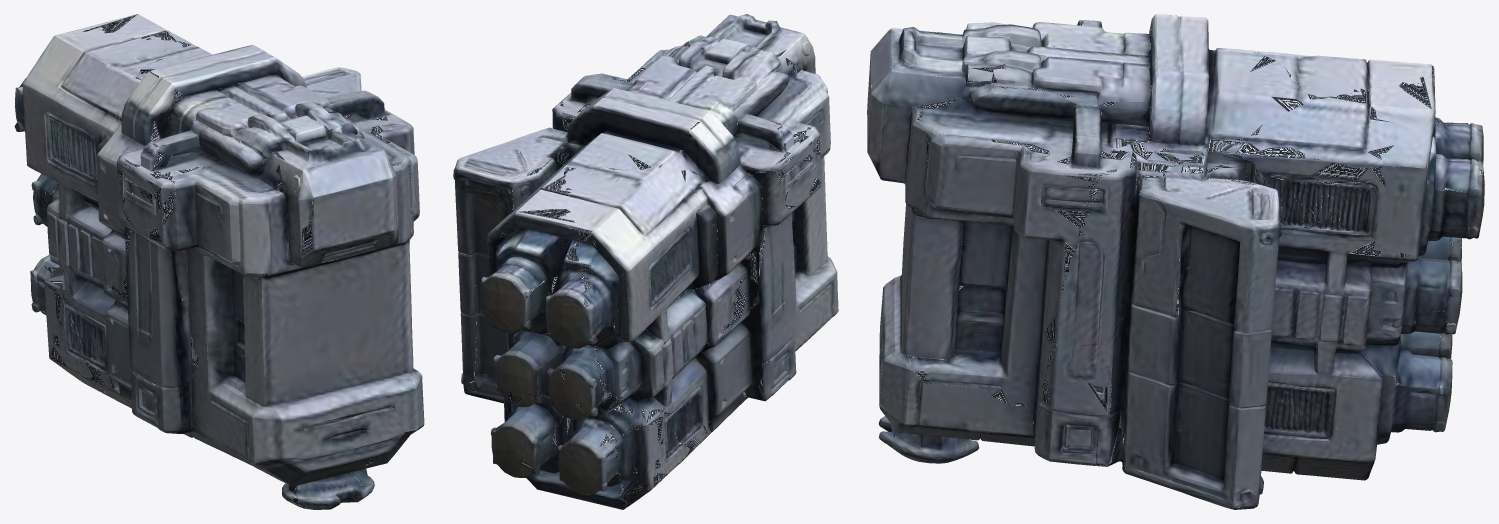
The model's file is HL_WPN_GrayModules_06.glb.
3 renders of one model, left to right at view 1: azimuth 30°, elevation 25°; view 2: azimuth 150°, elevation 25°; view 3: azimuth 270°, elevation 25°, orthographic. The views are drawn at different scales.
Parts seen in each view (by area): view 1: meshes[0]; view 2: meshes[0]; view 3: meshes[0].
Part boxes in pixels (x1,y1,x2,y2): meshes[0]: (14, 14, 424, 509); meshes[0]: (453, 14, 838, 509); meshes[0]: (867, 14, 1484, 509).
Size of the model in its own units: 0.17 by 0.2038 by 0.2706.
1 material, 1 textured.
